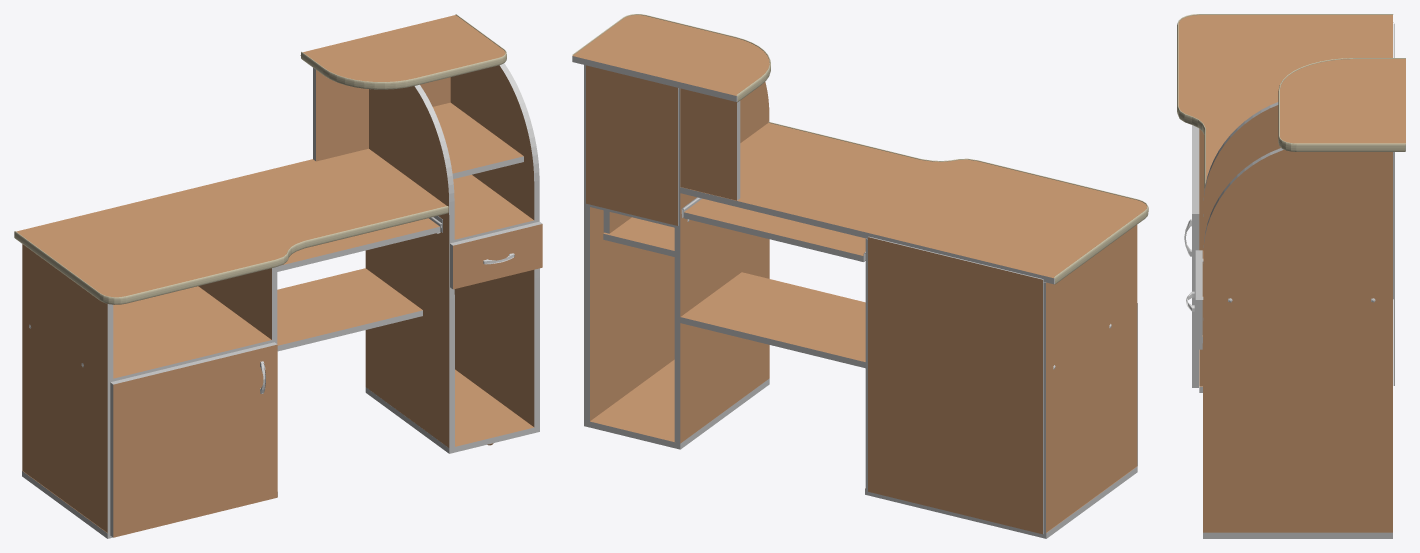
The model's file is sh3d_blendswap_desk_075.glb.
The picture shows the model from 3 angles, left to right: view 1: azimuth 30°, elevation 25°; view 2: azimuth 150°, elevation 25°; view 3: azimuth 270°, elevation 25°; orthographic projection. The views are drawn at different scales.
Visible parts, largest first — view 1: Desk1, Border, Biurko2; view 2: Desk1, Border, Biurko2; view 3: Desk1, Border, Biurko2.
Boxes of the visible parts, <box> form: Desk1: <box>16,15,542,537</box>; Border: <box>22,63,542,538</box>; Biurko2: <box>14,14,506,304</box>; Desk1: <box>572,15,1146,534</box>; Border: <box>572,56,1137,538</box>; Biurko2: <box>572,14,1148,284</box>; Desk1: <box>1178,15,1405,532</box>; Border: <box>1192,23,1405,538</box>; Biurko2: <box>1177,14,1405,190</box>.
Bounding box in the file's own units: 1.39 × 1.05 × 0.5428.
